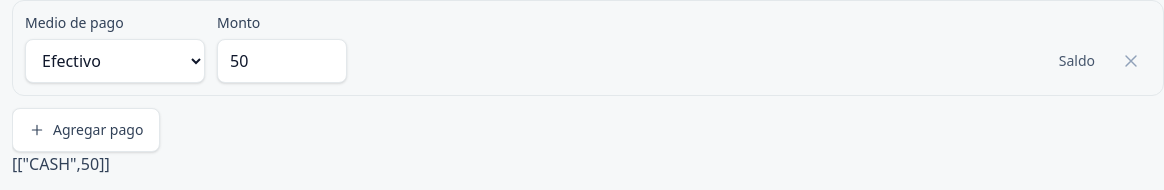
Scenario: PaymentsEditor: pagos mixtos › permite quitar un pago
Click the button named "Quitar pago".
click(1131, 61)  # box 1111,41 -> 1151,81
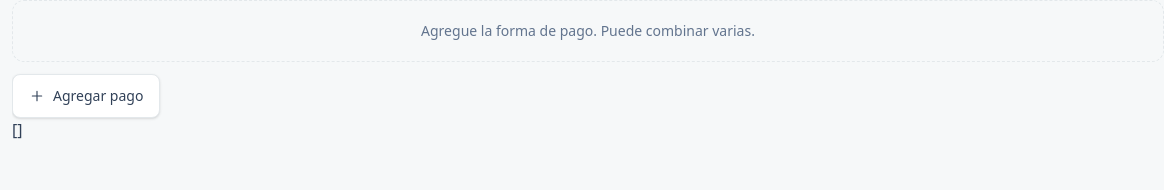
expect the text with test id "state" reads "[]": met, box 12,119 -> 22,141
